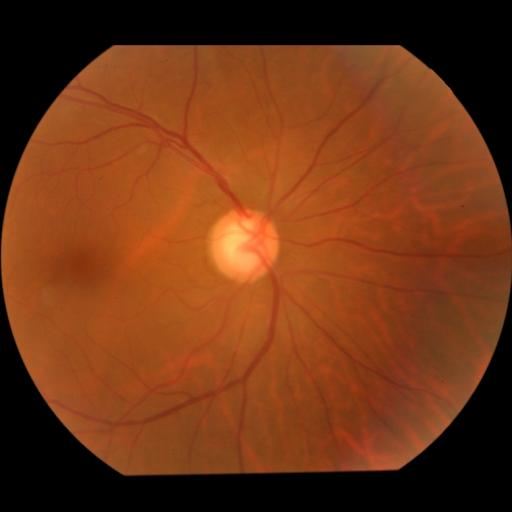Optic Cup: (224, 222, 264, 267)
Optic Disc: (211, 209, 279, 283)
